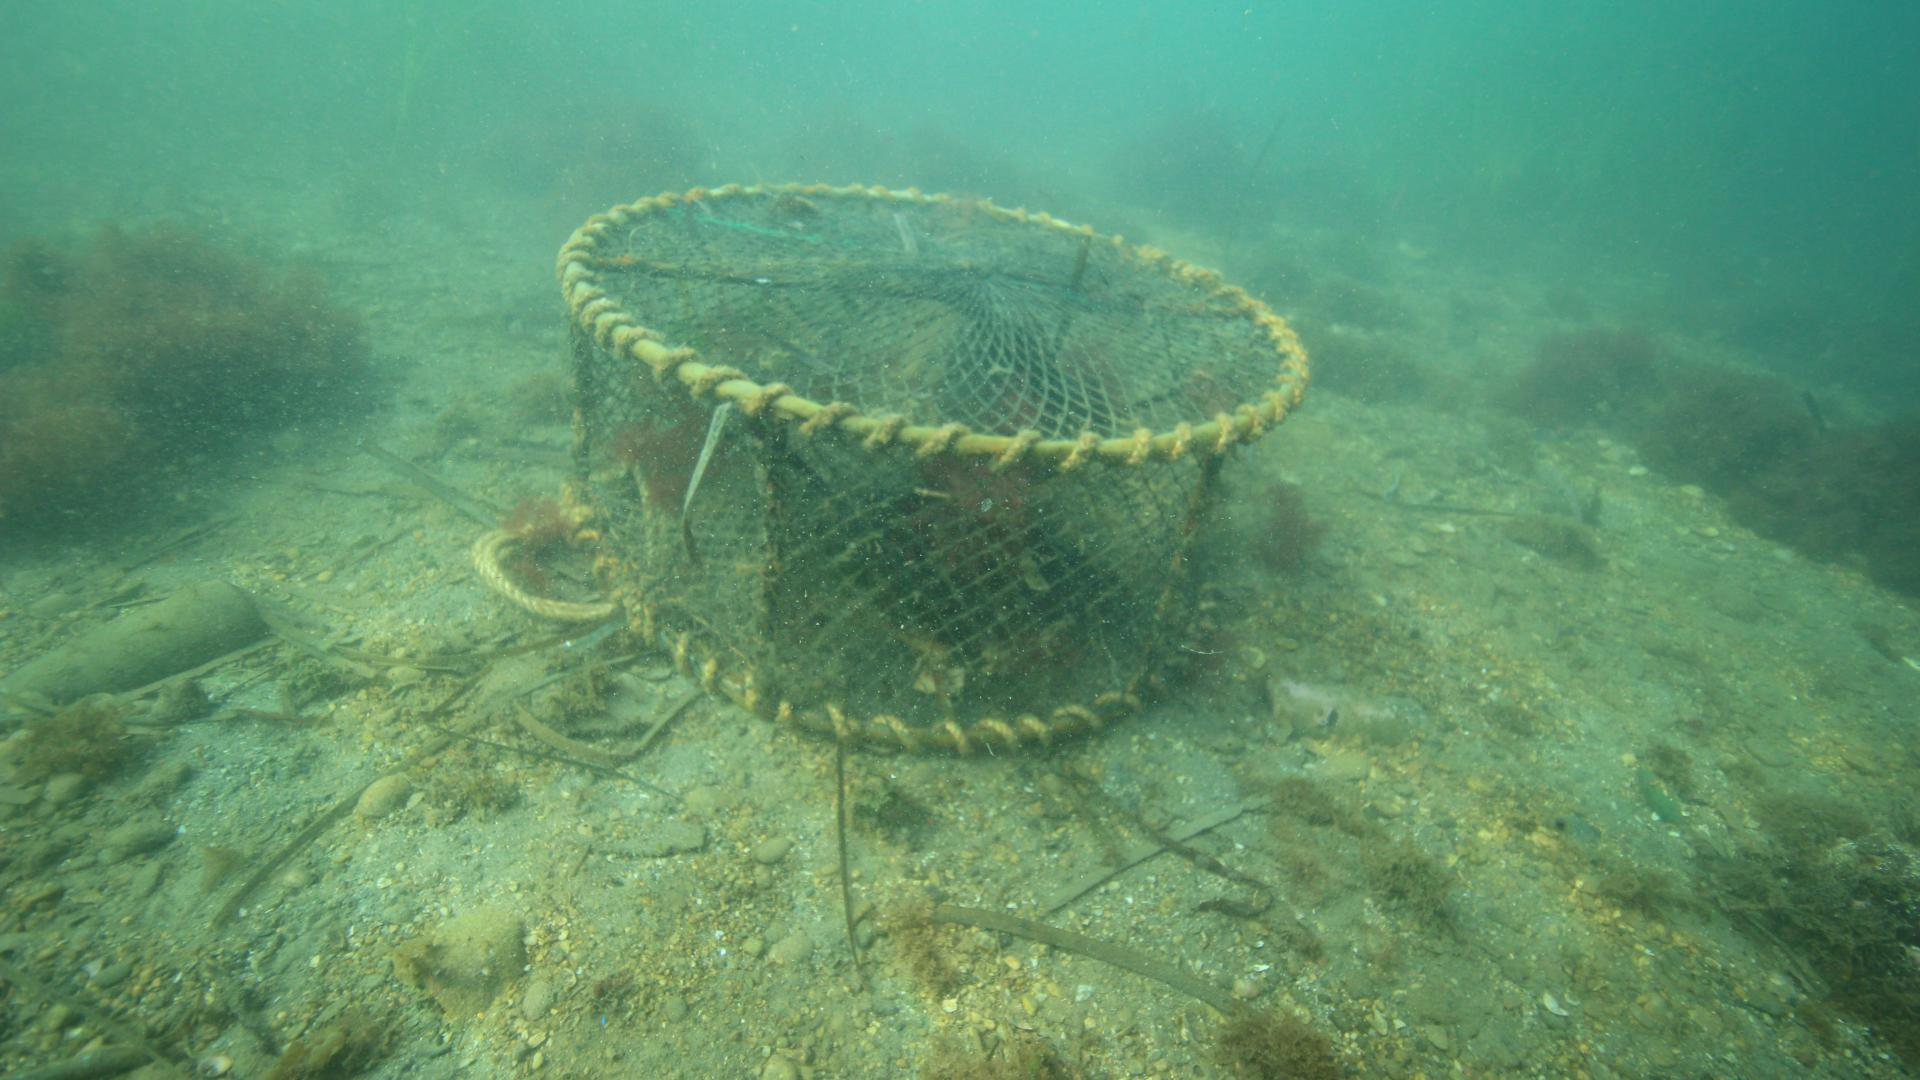bundle of ropes: (469, 520, 618, 621)
circular fish trap: (553, 178, 1309, 756)
